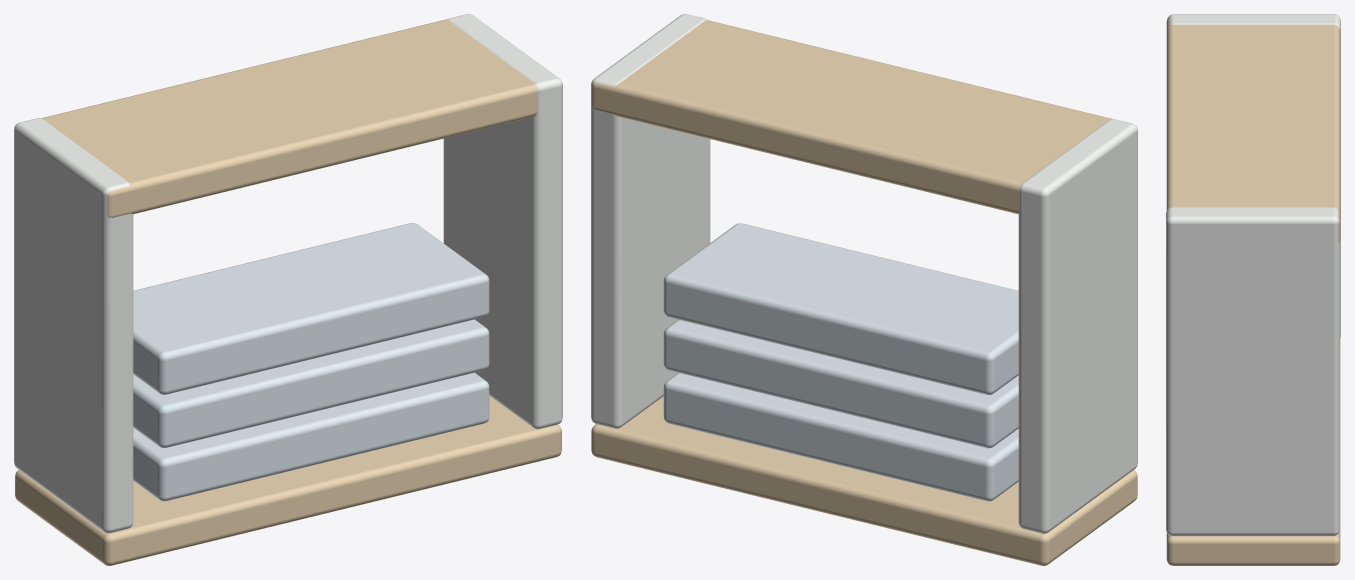
File: squash-club-and-racket-workshop-towel-shelf-d21e81a1__29763.glb
3 renders of one model, left to right at view 1: azimuth 30°, elevation 25°; view 2: azimuth 150°, elevation 25°; view 3: azimuth 270°, elevation 25°, orthographic. The views are drawn at different scales.
Parts seen in each view (by area): view 1: towel-shelf; view 2: towel-shelf; view 3: towel-shelf.
Part boxes in pixels (x1=…): towel-shelf: x1=14, y1=14, x2=562, y2=565; towel-shelf: x1=591, y1=14, x2=1137, y2=565; towel-shelf: x1=1166, y1=14, x2=1340, y2=565.
Bounding box in the file's own units: 0.9024 × 0.7112 × 0.3224.
